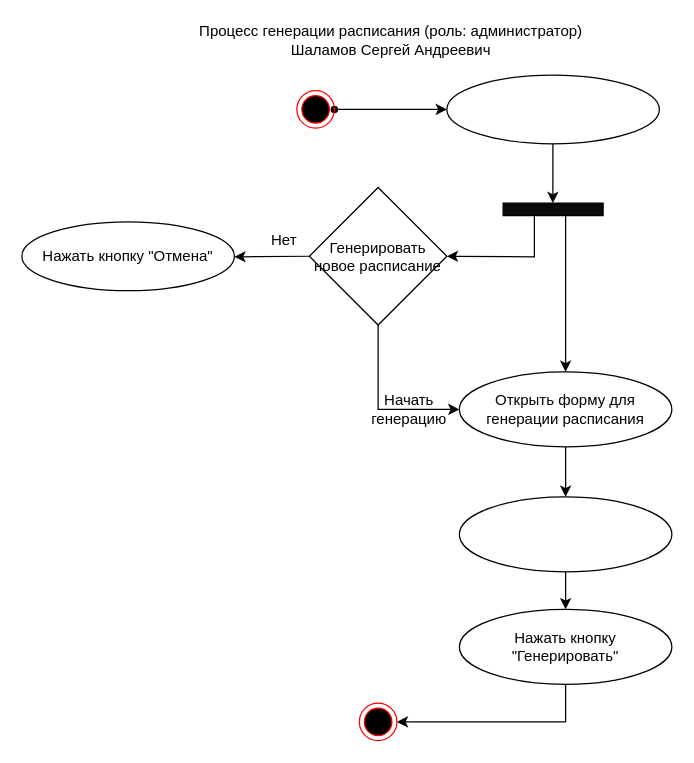
This 694x763 diagram has some shape labels left out. The centre of each missing label's shape, as x and y in pixels:
Выбрать дату и учителей, работающих в этот день: (565,534)
Открыть приложение школы: (552,109)
